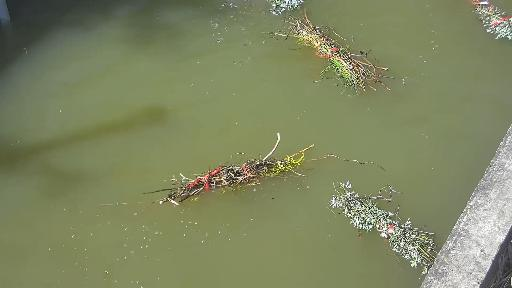twig: (106, 132, 403, 211), (323, 173, 460, 286), (267, 6, 395, 97), (462, 1, 512, 44), (261, 1, 316, 13)
